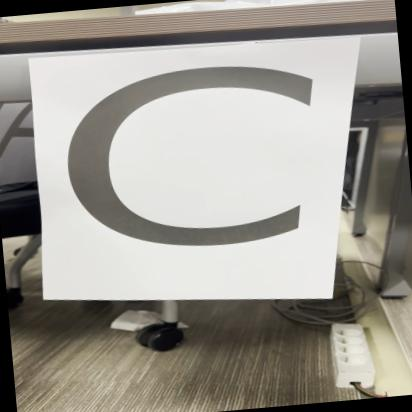seat: (29, 36, 349, 318)
